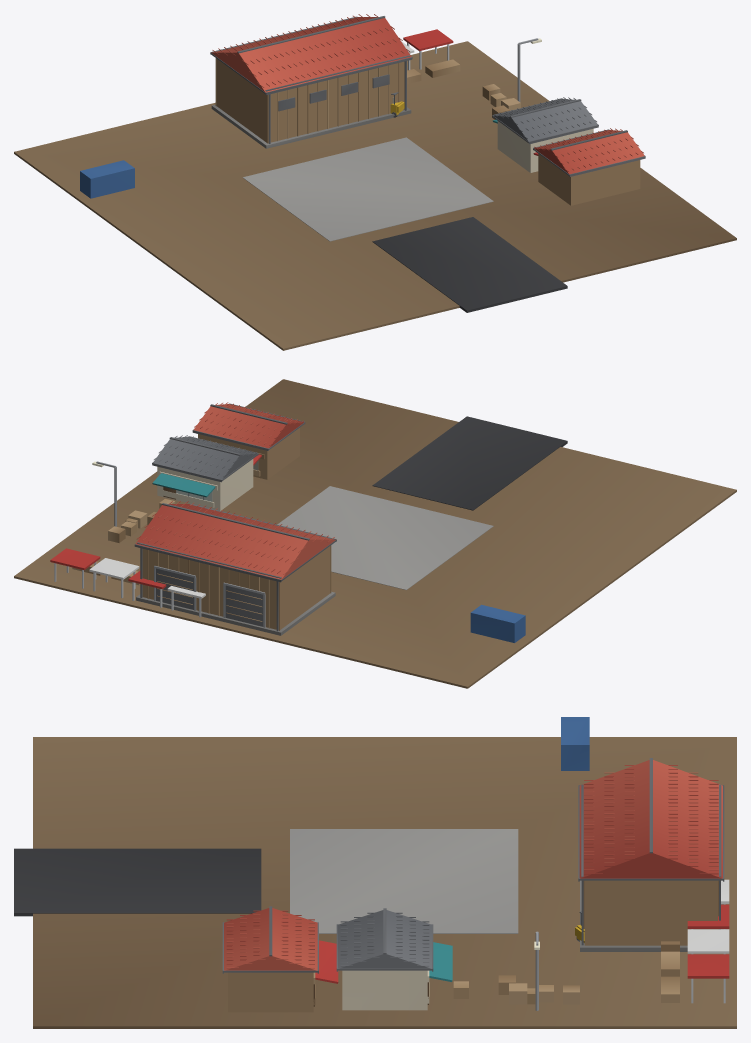
Rendered from Market_P1.fbx.
The picture shows the model from 3 angles, top to bottom: view 1: azimuth 30°, elevation 25°; view 2: azimuth 150°, elevation 25°; view 3: azimuth 270°, elevation 25°; orthographic projection. The views are drawn at different scales.
Visible parts, largest first — view 1: Market.Pad, Market.WH1, Market.Shop0, Market.Shop1, Market.Goods, Market.Stalls; view 2: Market.Pad, Market.WH1, Market.Shop1, Market.Shop0, Market.Stalls, Market.Goods; view 3: Market.Pad, Market.WH1, Market.Shop0, Market.Shop1, Market.Stalls, Market.Goods.
Boxes of the visible parts, <box> form: Market.Pad: <box>14,41,736,350</box>; Market.WH1: <box>210,14,412,148</box>; Market.Shop0: <box>533,128,645,205</box>; Market.Shop1: <box>492,97,598,172</box>; Market.Goods: <box>80,84,520,198</box>; Market.Stalls: <box>401,29,460,84</box>; Market.Pad: <box>14,379,736,688</box>; Market.WH1: <box>134,501,336,635</box>; Market.Shop1: <box>152,435,258,510</box>; Market.Shop0: <box>192,402,305,479</box>; Market.Stalls: <box>50,548,205,617</box>; Market.Goods: <box>108,499,525,642</box>; Market.Pad: <box>14,737,736,1028</box>; Market.WH1: <box>578,758,724,951</box>; Market.Shop0: <box>222,906,338,1012</box>; Market.Shop1: <box>336,908,452,1010</box>; Market.Stalls: <box>661,879,729,1003</box>; Market.Goods: <box>453,717,589,1004</box>.
Size of the model in its own units: 7200 by 1199 by 7600.
